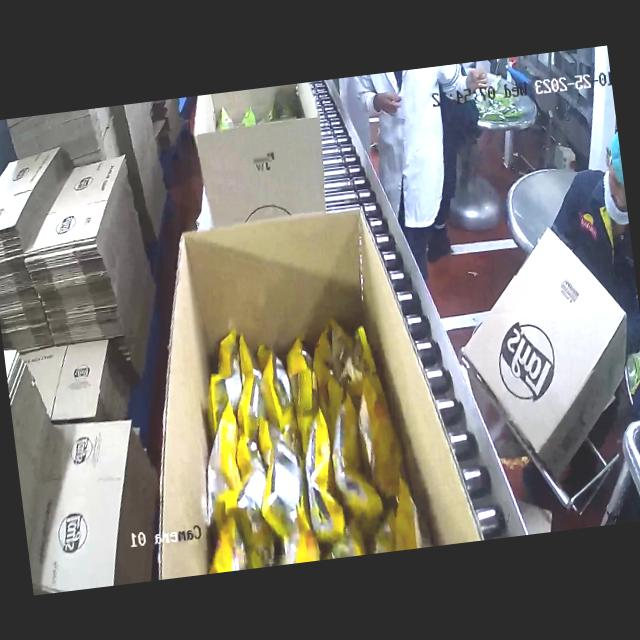salted: (178, 308, 420, 572)
